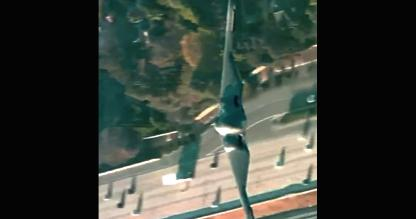B1: (214, 0, 260, 218)
